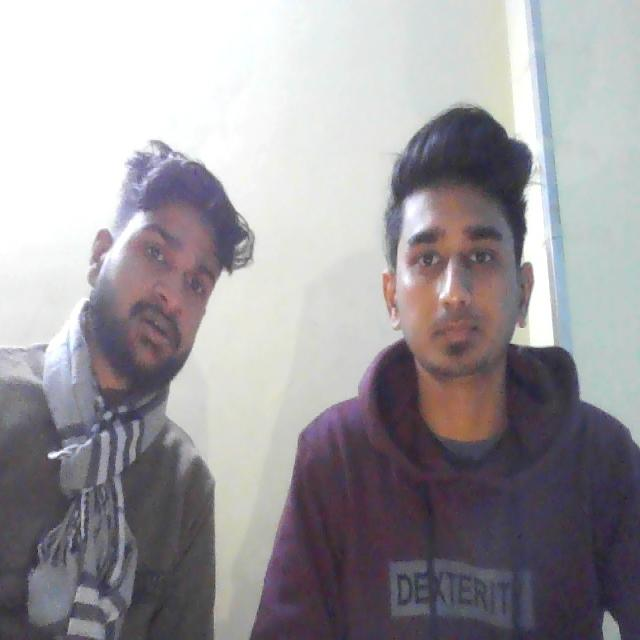real: (387, 112, 539, 399), (101, 158, 219, 382)
